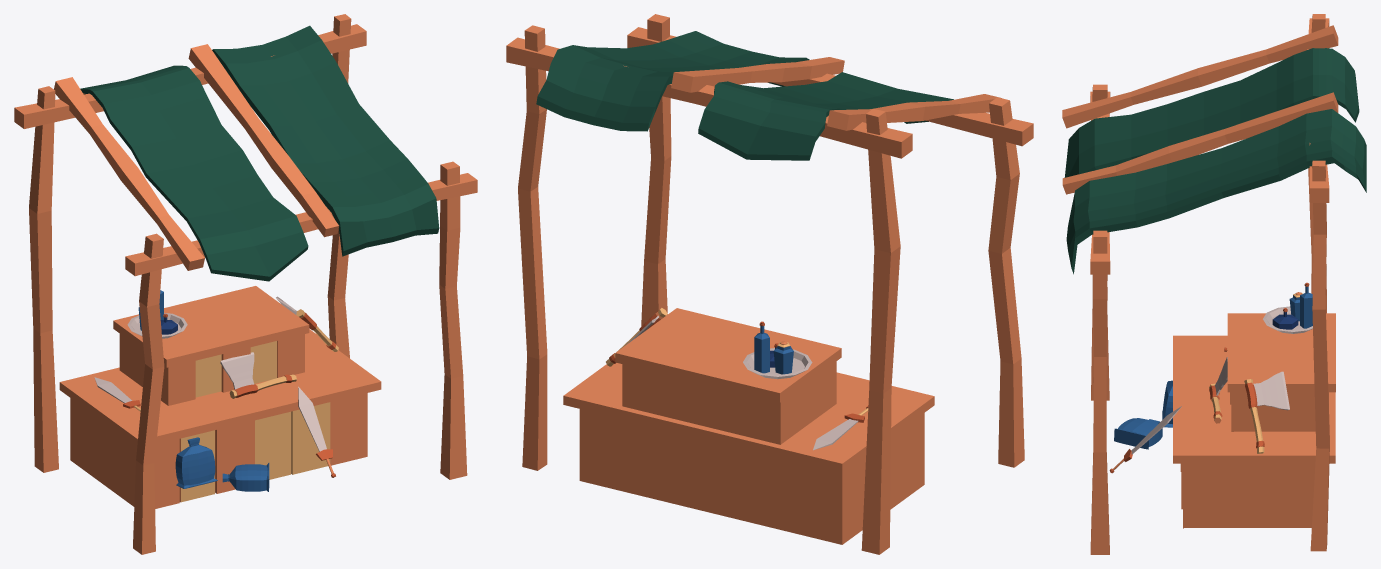
File: ShopTent2.fbx
The picture shows the model from 3 angles, left to right: view 1: azimuth 30°, elevation 25°; view 2: azimuth 150°, elevation 25°; view 3: azimuth 270°, elevation 25°; orthographic projection. The views are drawn at different scales.
Visible parts, largest first — view 1: ShopTent2; view 2: ShopTent2; view 3: ShopTent2.
Boxes of the visible parts, <box> form: ShopTent2: <box>14,14,477,554</box>; ShopTent2: <box>506,14,1033,554</box>; ShopTent2: <box>1062,14,1366,554</box>.
Bounding box in the file's own units: 138 × 184 × 193.
